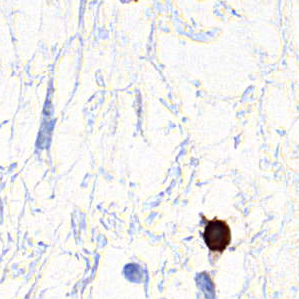Lymphocyte: (202, 218, 233, 252)
